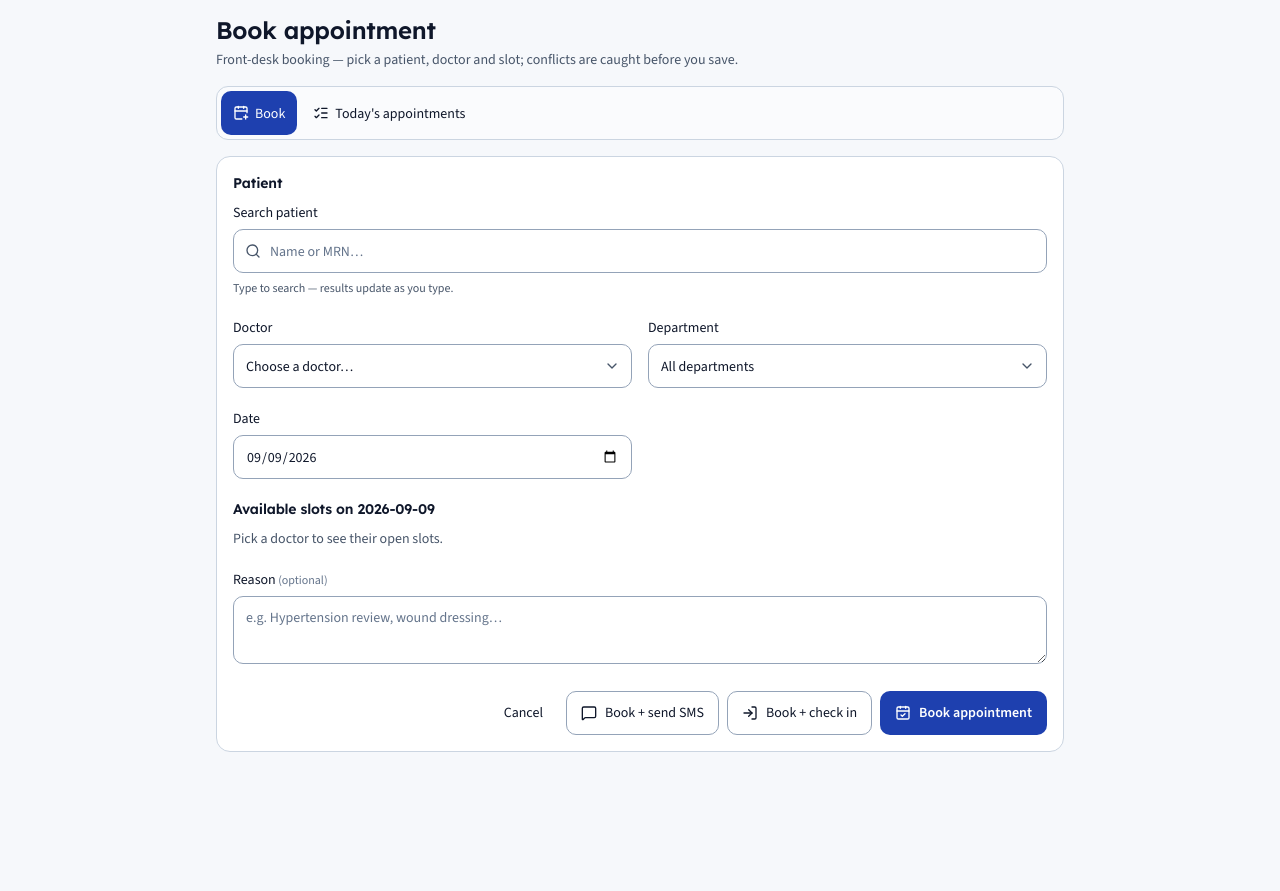
Test: AppointmentBookingPage polish (#15) › books and sends a stub SMS
In the search field labelled "Search patient": {"x": 640, "y": 251} [233, 229, 1047, 273], type "Budi"
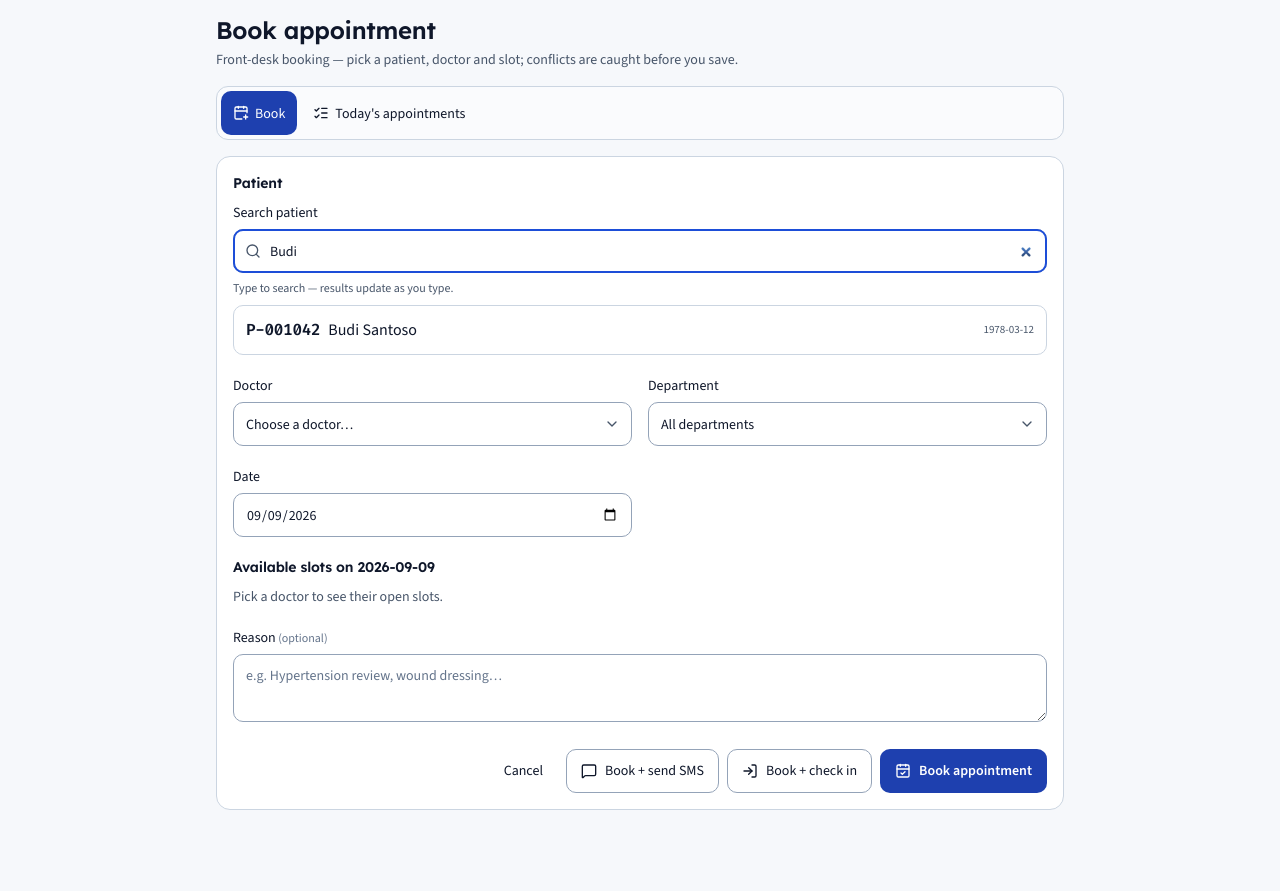
Click the button "P-001042 Budi Santoso 1978-03-12": {"x": 283, "y": 330} [234, 306, 1046, 354]
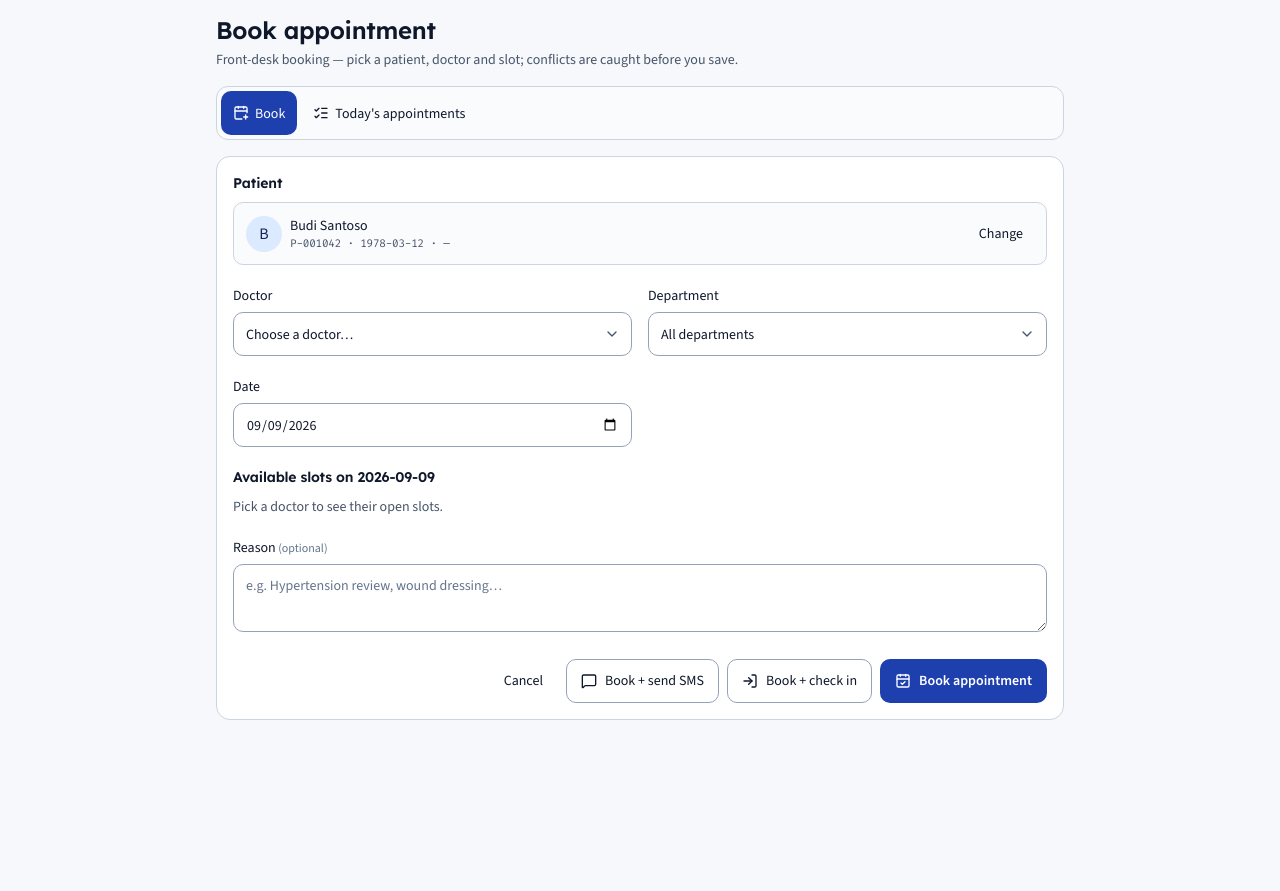
Select "Dr. Adi Nugroho — Internal Medicine" in the dropdown labelled "Doctor": {"x": 432, "y": 334} [233, 312, 632, 356]
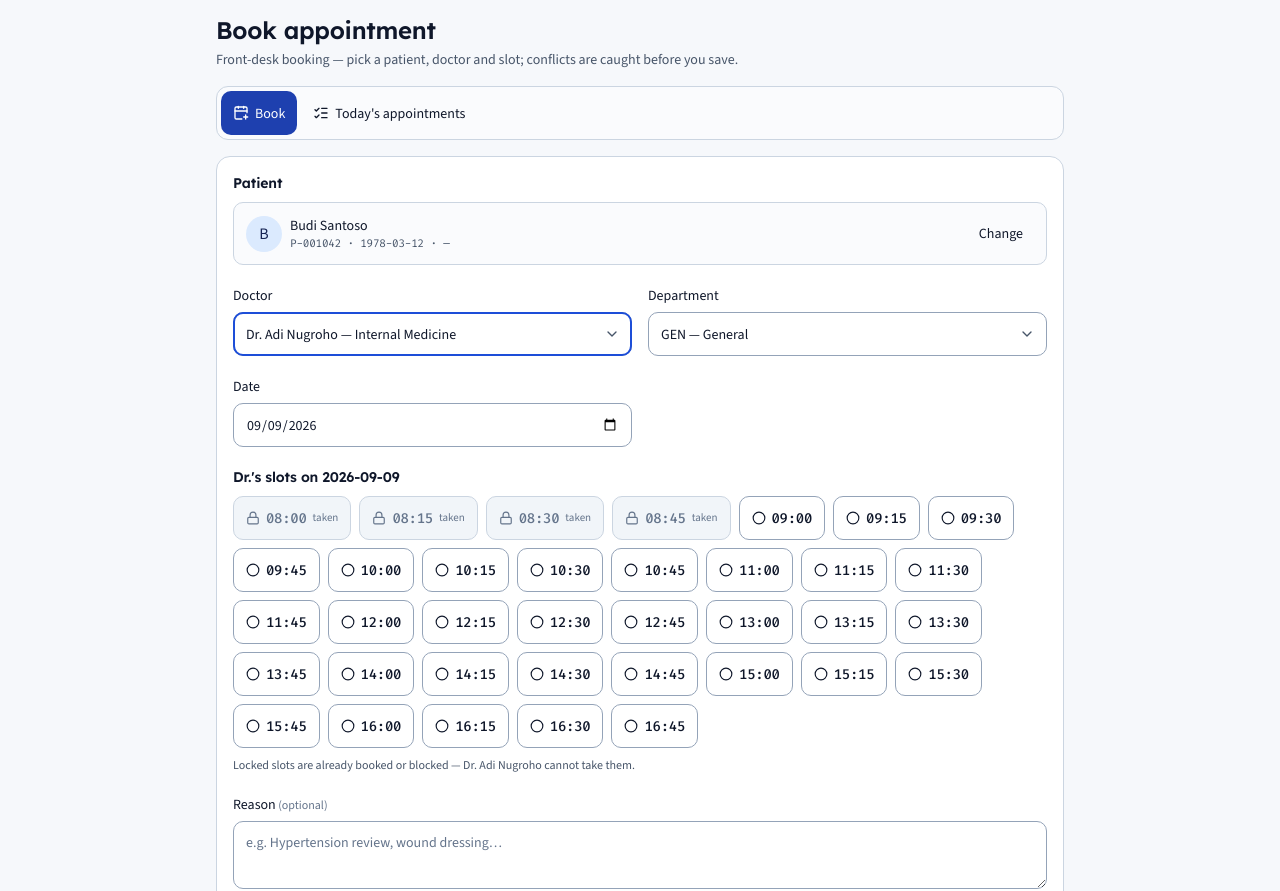
Click the button "13:30": {"x": 939, "y": 622} [895, 600, 982, 644]
(page scrolled)
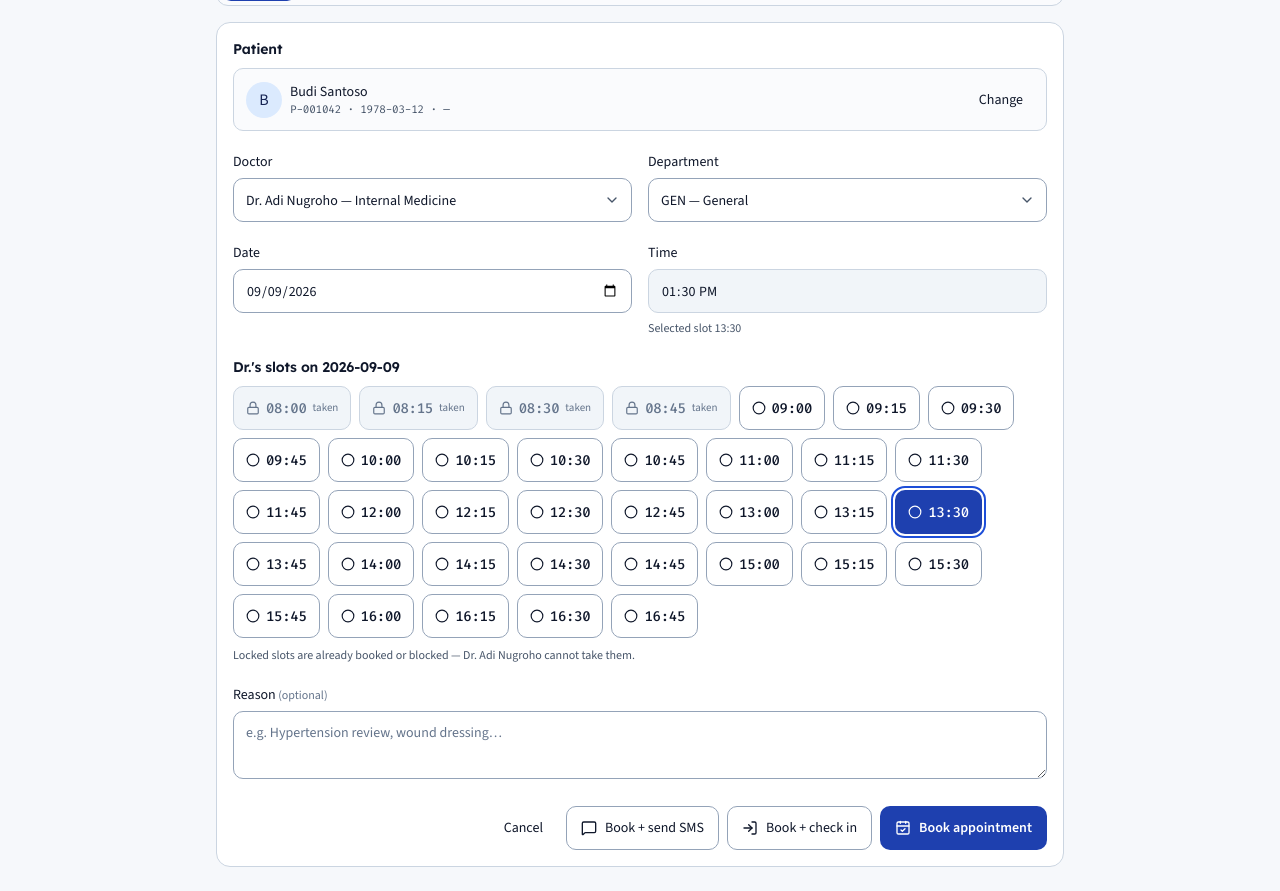
Click the button with test id "book-sms": {"x": 643, "y": 828} [566, 806, 719, 850]
(page scrolled)
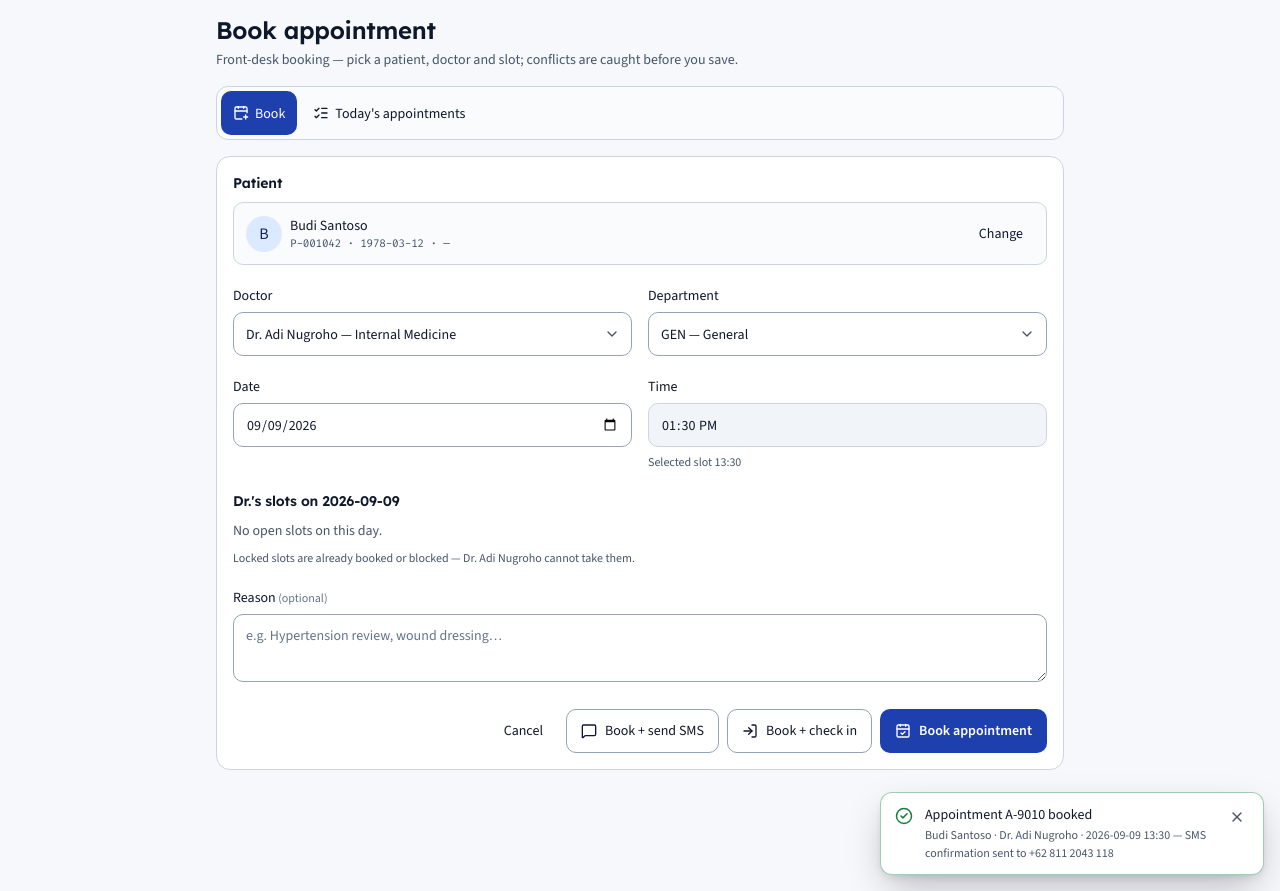
expect the text "SMS confirmation sent" is shown: met, box [925, 827, 1206, 861]
